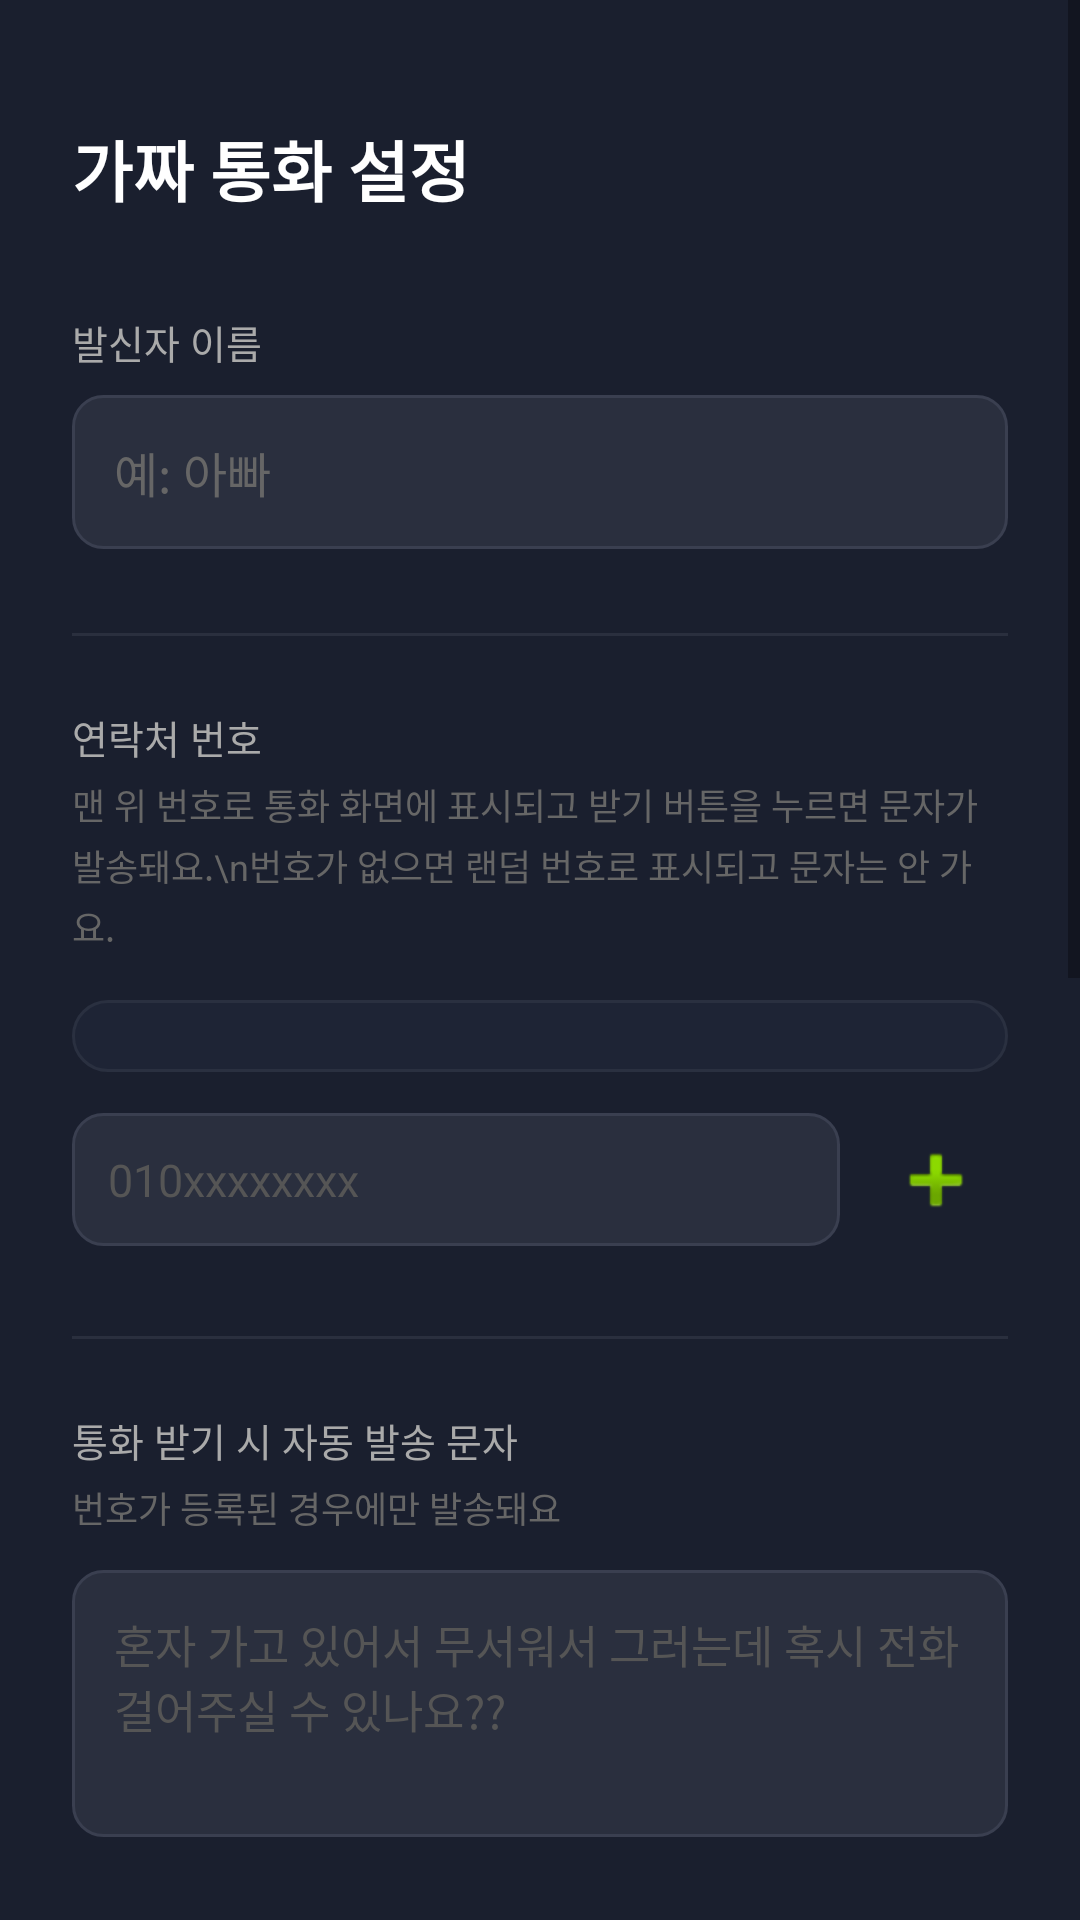

Icons on this 1080 x 1920 Android screen, each with its box as bbox=(x1, y1, x2, y2):
번호 추가: bbox=(909, 1153, 963, 1207)
